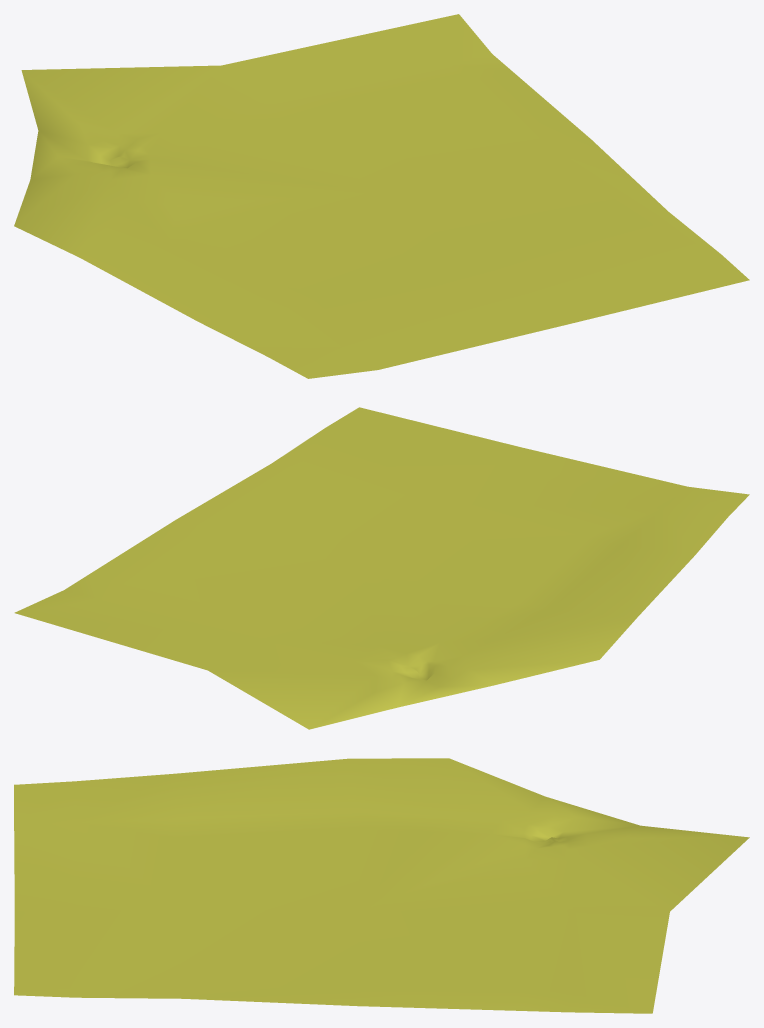
The picture shows the model from 3 angles, top to bottom: view 1: azimuth 30°, elevation 25°; view 2: azimuth 150°, elevation 25°; view 3: azimuth 270°, elevation 25°; orthographic projection. The views are drawn at different scales.
Parts seen in each view (by area): view 1: polySurface13; view 2: polySurface13; view 3: polySurface13.
Part boxes in pixels (box(x1,y1,x2,y2)): polySurface13: box(14, 14, 749, 378); polySurface13: box(14, 407, 749, 729); polySurface13: box(14, 758, 749, 1013).
Size of the model in its own units: 2530 by 94.17 by 3107.
